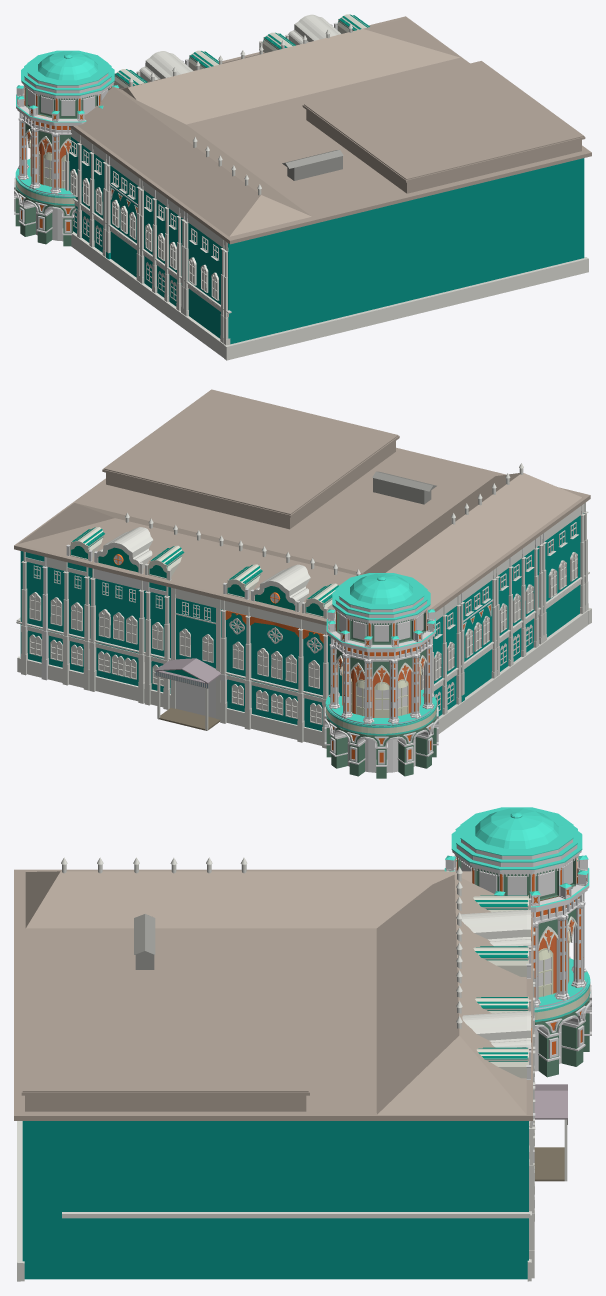
File: ГОТОВО все.fbx
3 renders of one model, top to bottom at view 1: azimuth 30°, elevation 25°; view 2: azimuth 150°, elevation 25°; view 3: azimuth 270°, elevation 25°, orthographic. The views are drawn at different scales.
Visible parts, largest first — view 1: Cube.154, Cube.235, Cube.013, Cube.238, Cube.237, Cube.002, Plane.026, Plane.030, Plane.029, Cylinder.017, Plane.027, Plane.054 (+7 smaller); view 2: Cube.154, Cube.235, Cube.013, Cube.237, Cube.238, Cube.061, Plane.026, Plane.029, Plane.030, Cylinder.017, Plane.027, Cube.010 (+26 smaller); view 3: Cube.154, Cube.235, Cube.013, Cube.238, Cube.237, Plane.026, Cube.006, Plane.030, Plane.029, Cylinder.017, Plane.027, Plane.054 (+13 smaller).
Boxes of the visible parts, box(x1,y1,x2,y2) form: Cube.154: box(46, 116, 584, 360); Cube.235: box(302, 61, 585, 193); Cube.013: box(69, 16, 591, 244); Cube.238: box(120, 18, 459, 124); Cube.237: box(77, 87, 311, 236); Cube.002: box(224, 257, 588, 360); Plane.026: box(21, 50, 114, 100); Plane.030: box(14, 178, 76, 246); Plane.029: box(15, 114, 75, 205); Cylinder.017: box(18, 108, 61, 194); Plane.027: box(24, 86, 111, 118); Plane.054: box(139, 51, 193, 81); Cube.154: box(20, 503, 590, 733); Cube.235: box(102, 389, 399, 529); Cube.013: box(14, 447, 590, 627); Cube.237: box(363, 473, 582, 609); Cube.238: box(18, 503, 364, 619); Cube.061: box(16, 580, 390, 748); Plane.026: box(332, 573, 430, 625); Plane.029: box(325, 665, 436, 735); Plane.030: box(324, 706, 438, 778); Cylinder.017: box(329, 637, 433, 724); Plane.027: box(336, 610, 426, 644); Cube.010: box(17, 656, 170, 708); Cube.154: box(22, 1121, 528, 1279); Cube.235: box(21, 970, 309, 1111); Cube.013: box(14, 869, 532, 1120); Cube.238: box(376, 874, 526, 1114); Cube.237: box(25, 871, 472, 928); Plane.026: box(451, 807, 582, 876); Cube.006: box(62, 1211, 530, 1218); Plane.030: box(534, 984, 591, 1077); Plane.029: box(534, 896, 590, 1021); Cylinder.017: box(533, 893, 586, 1007); Plane.027: box(456, 857, 577, 900); Plane.054: box(461, 910, 530, 946).
Size of the model in its own units: 9183 by 3892 by 8443.
